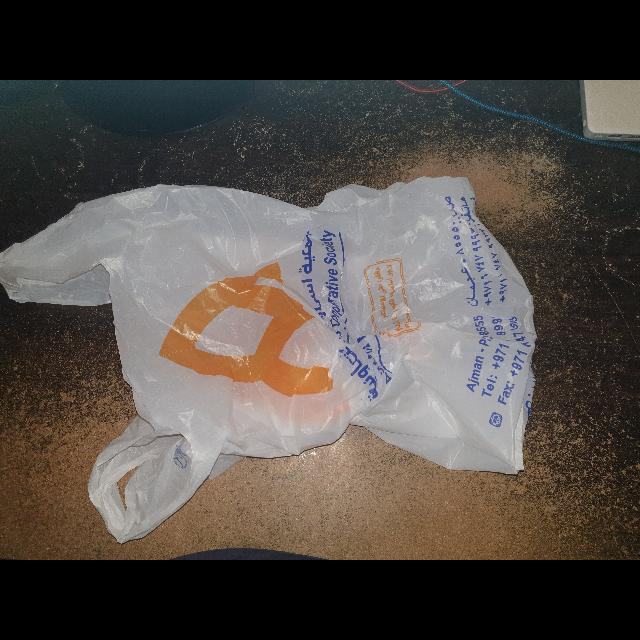plastic_bag: (0, 168, 548, 546)
